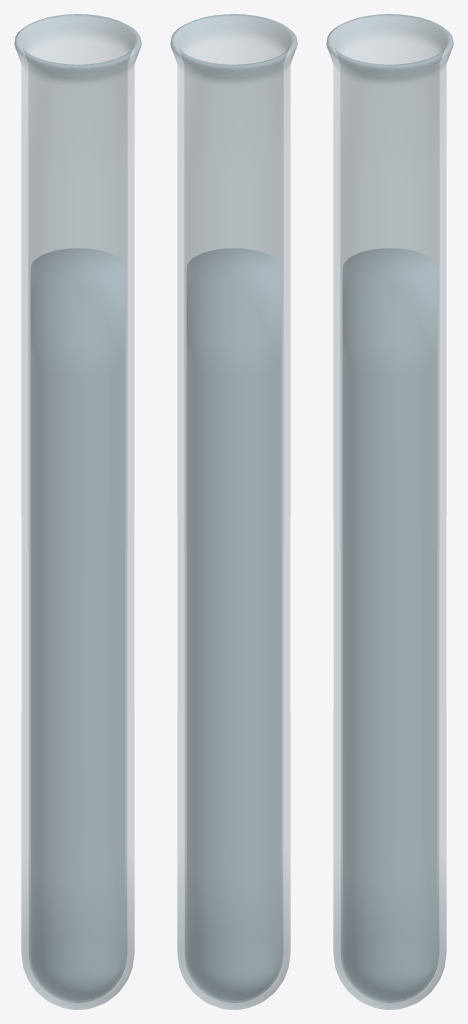
The picture shows the model from 3 angles, left to right: view 1: azimuth 30°, elevation 25°; view 2: azimuth 150°, elevation 25°; view 3: azimuth 330°, elevation 25°; orthographic projection.
Visible parts, largest first — view 1: test-tube-glass, test-tube-inner; view 2: test-tube-glass, test-tube-inner; view 3: test-tube-glass, test-tube-inner.
Boxes of the visible parts, left/top/right/bottom form: test-tube-glass: left=14, top=14, right=141, bottom=1009; test-tube-inner: left=31, top=248, right=124, bottom=1000; test-tube-glass: left=170, top=14, right=297, bottom=1009; test-tube-inner: left=187, top=248, right=280, bottom=1000; test-tube-glass: left=326, top=14, right=453, bottom=1009; test-tube-inner: left=343, top=248, right=436, bottom=1000.
Size of what is drawn, in the model's own units: 1.8 by 15.06 by 1.8.
